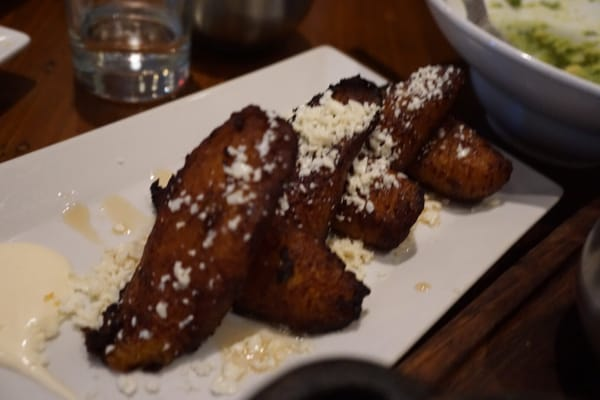pizza: (65, 0, 193, 103)
sushi: (425, 0, 600, 175)
